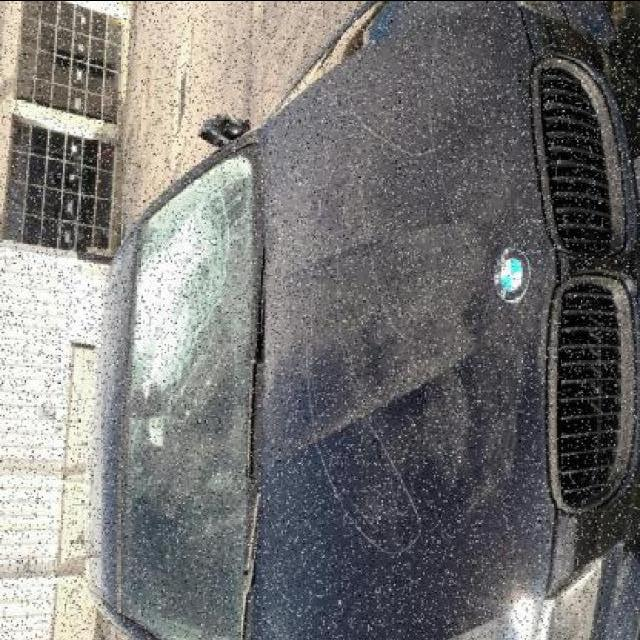Front-Windscreen-Damage: (101, 168, 259, 640)
bonnet-dent: (254, 2, 591, 640)
